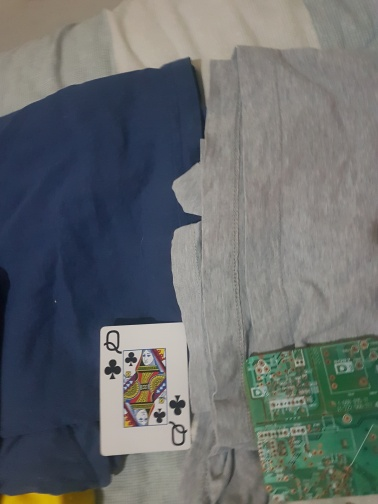queen: (101, 323, 191, 456)
